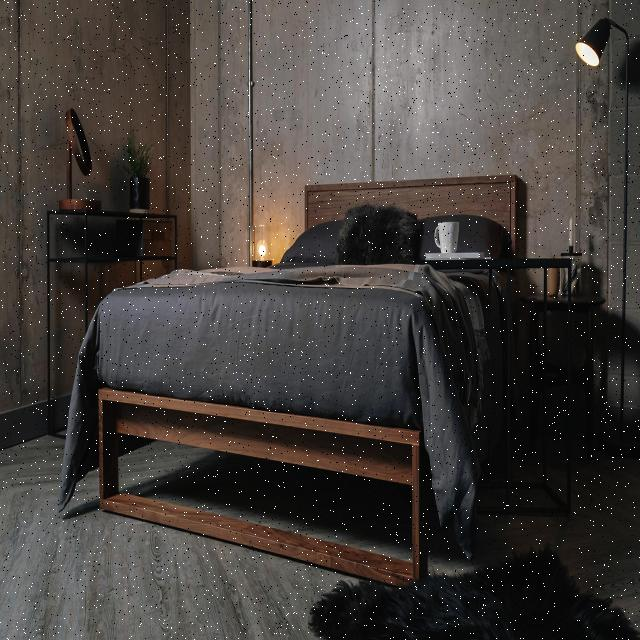bed: (85, 162, 529, 434)
